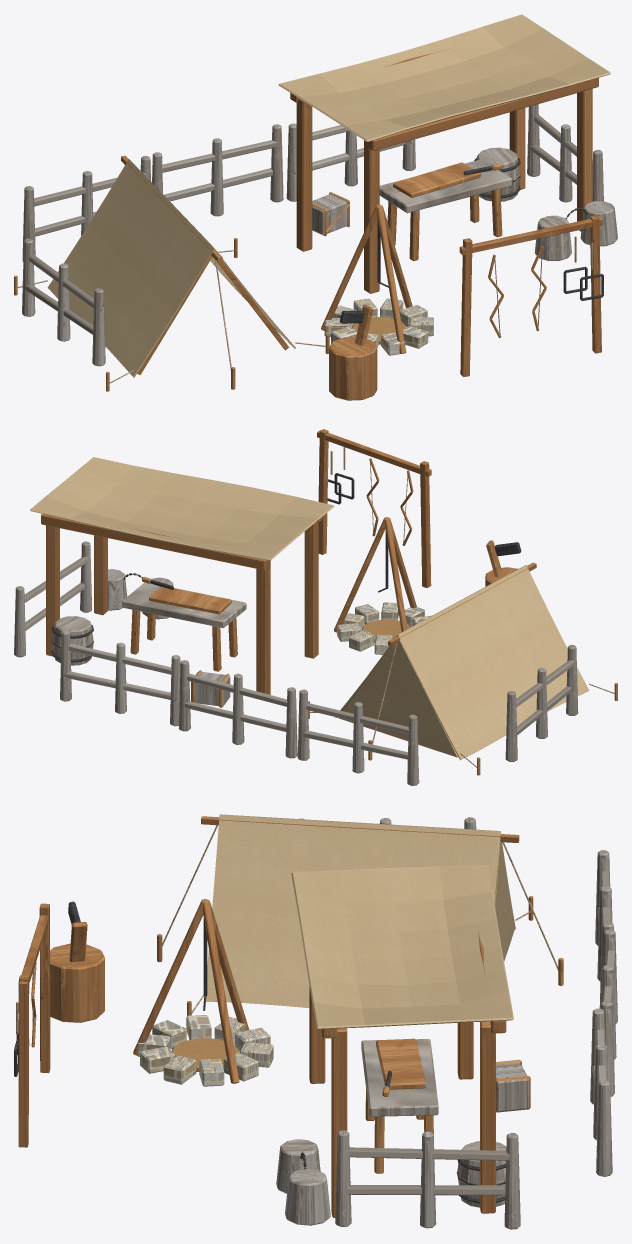
Rendered from hunters_camp_textured_v2.glb.
3 renders of one model, top to bottom at view 1: azimuth 30°, elevation 25°; view 2: azimuth 150°, elevation 25°; view 3: azimuth 270°, elevation 25°, orthographic. The views are drawn at different scales.
Parts seen in each view (by area): view 1: HC_Processing_Canopy, HC_Sleeping_Tent, HC_Field_Worktable, HC_Hunter_Tool_Rack, HC_Boundary_Rail_02, HC_Boundary_Rail_04, HC_Chopping_Block, HC_Hearth, HC_Boundary_Rail_05, HC_Cooking_Tripod, HC_Boundary_Rail_01, HC_Boundary_Rail_03 (+3 smaller); view 2: HC_Processing_Canopy, HC_Sleeping_Tent, HC_Field_Worktable, HC_Hunter_Tool_Rack, HC_Boundary_Rail_01, HC_Boundary_Rail_02, HC_Boundary_Rail_03, HC_Boundary_Rail_04, HC_Hearth, HC_Boundary_Rail_05, HC_Cooking_Tripod, HC_Supply_Barrel (+3 smaller); view 3: HC_Processing_Canopy, HC_Sleeping_Tent, HC_Boundary_Rail_05, HC_Hearth, HC_Field_Worktable, HC_Hunter_Tool_Rack, HC_Chopping_Block, HC_Cooking_Tripod, HC_Water_Buckets, HC_Boundary_Rail_03, HC_Boundary_Rail_02, HC_Supply_Crate (+2 smaller).
Boxes of the visible parts, x1=… form: HC_Processing_Canopy: x1=278, y1=14, x2=610, y2=293; HC_Sleeping_Tent: x1=14, y1=155, x2=329, y2=391; HC_Field_Worktable: x1=379, y1=159, x2=512, y2=260; HC_Hunter_Tool_Rack: x1=459, y1=215, x2=603, y2=376; HC_Boundary_Rail_02: x1=152, y1=124, x2=283, y2=216; HC_Boundary_Rail_04: x1=22, y1=238, x2=105, y2=366; HC_Chopping_Block: x1=329, y1=305, x2=377, y2=400; HC_Hearth: x1=324, y1=298, x2=433, y2=355; HC_Boundary_Rail_05: x1=527, y1=104, x2=603, y2=202; HC_Cooking_Tripod: x1=321, y1=204, x2=412, y2=353; HC_Boundary_Rail_01: x1=22, y1=156, x2=150, y2=261; HC_Boundary_Rail_03: x1=286, y1=123, x2=415, y2=201; HC_Processing_Canopy: x1=30, y1=457, x2=334, y2=694; HC_Sleeping_Tent: x1=308, y1=562, x2=617, y2=775; HC_Field_Worktable: x1=121, y1=576, x2=246, y2=671; HC_Hunter_Tool_Rack: x1=317, y1=429, x2=431, y2=587; HC_Boundary_Rail_01: x1=297, y1=689, x2=419, y2=785; HC_Boundary_Rail_02: x1=178, y1=660, x2=297, y2=758; HC_Boundary_Rail_03: x1=60, y1=630, x2=180, y2=726; HC_Boundary_Rail_04: x1=505, y1=644, x2=578, y2=761; HC_Hearth: x1=337, y1=602, x2=431, y2=654; HC_Boundary_Rail_05: x1=14, y1=541, x2=91, y2=657; HC_Cooking_Tripod: x1=334, y1=517, x2=416, y2=632; HC_Supply_Barrel: x1=51, y1=616, x2=93, y2=665; HC_Processing_Canopy: x1=291, y1=865, x2=513, y2=1217; HC_Sleeping_Tent: x1=157, y1=814, x2=563, y2=1016; HC_Boundary_Rail_05: x1=335, y1=1130, x2=520, y2=1229; HC_Hearth: x1=137, y1=1015, x2=273, y2=1086; HC_Field_Worktable: x1=361, y1=1038, x2=438, y2=1173; HC_Hunter_Tool_Rack: x1=14, y1=903, x2=50, y2=1147; HC_Chopping_Block: x1=50, y1=901, x2=104, y2=1022; HC_Cooking_Tripod: x1=133, y1=899, x2=249, y2=1083; HC_Water_Buckets: x1=276, y1=1139, x2=330, y2=1225; HC_Boundary_Rail_03: x1=590, y1=1008, x2=612, y2=1176; HC_Boundary_Rail_02: x1=600, y1=929, x2=617, y2=1096; HC_Supply_Crate: x1=496, y1=1059, x2=530, y2=1112.
Bounding box in the file's own units: 9.25 × 2.66 × 7.14.
Materials: 8 (8 with a texture image).
